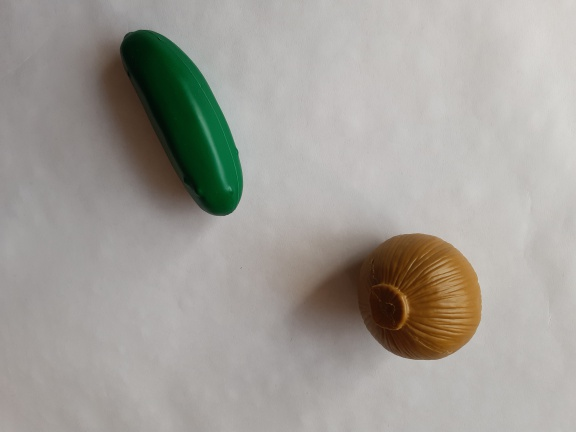cucumber: (116, 23, 254, 231)
onion: (352, 230, 488, 374)
